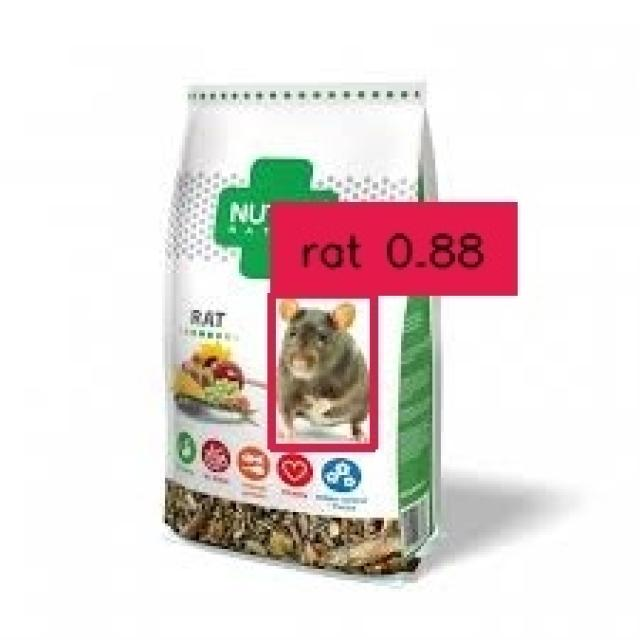rat: (267, 290, 370, 444)
